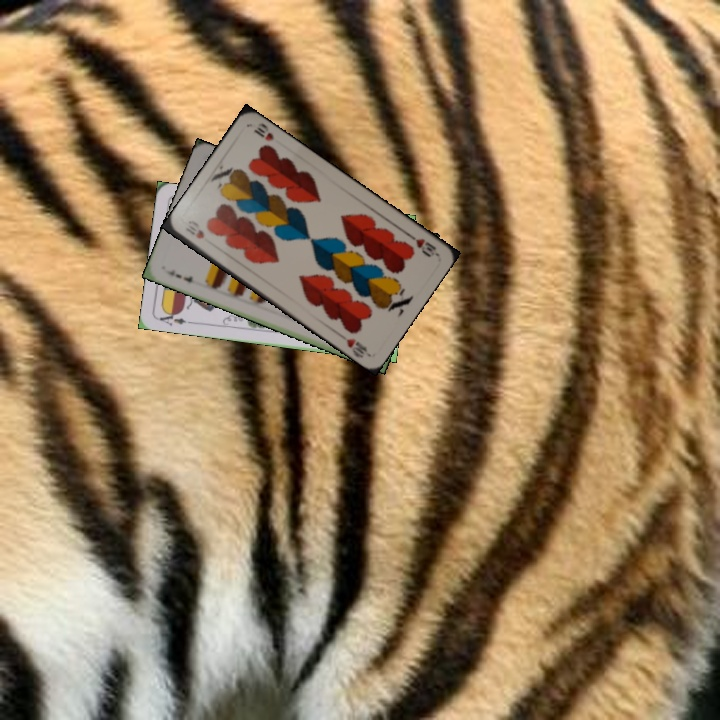E7: (162, 266, 196, 285)
EA: (154, 307, 188, 328)
H10: (404, 230, 440, 260), (181, 223, 207, 242)
